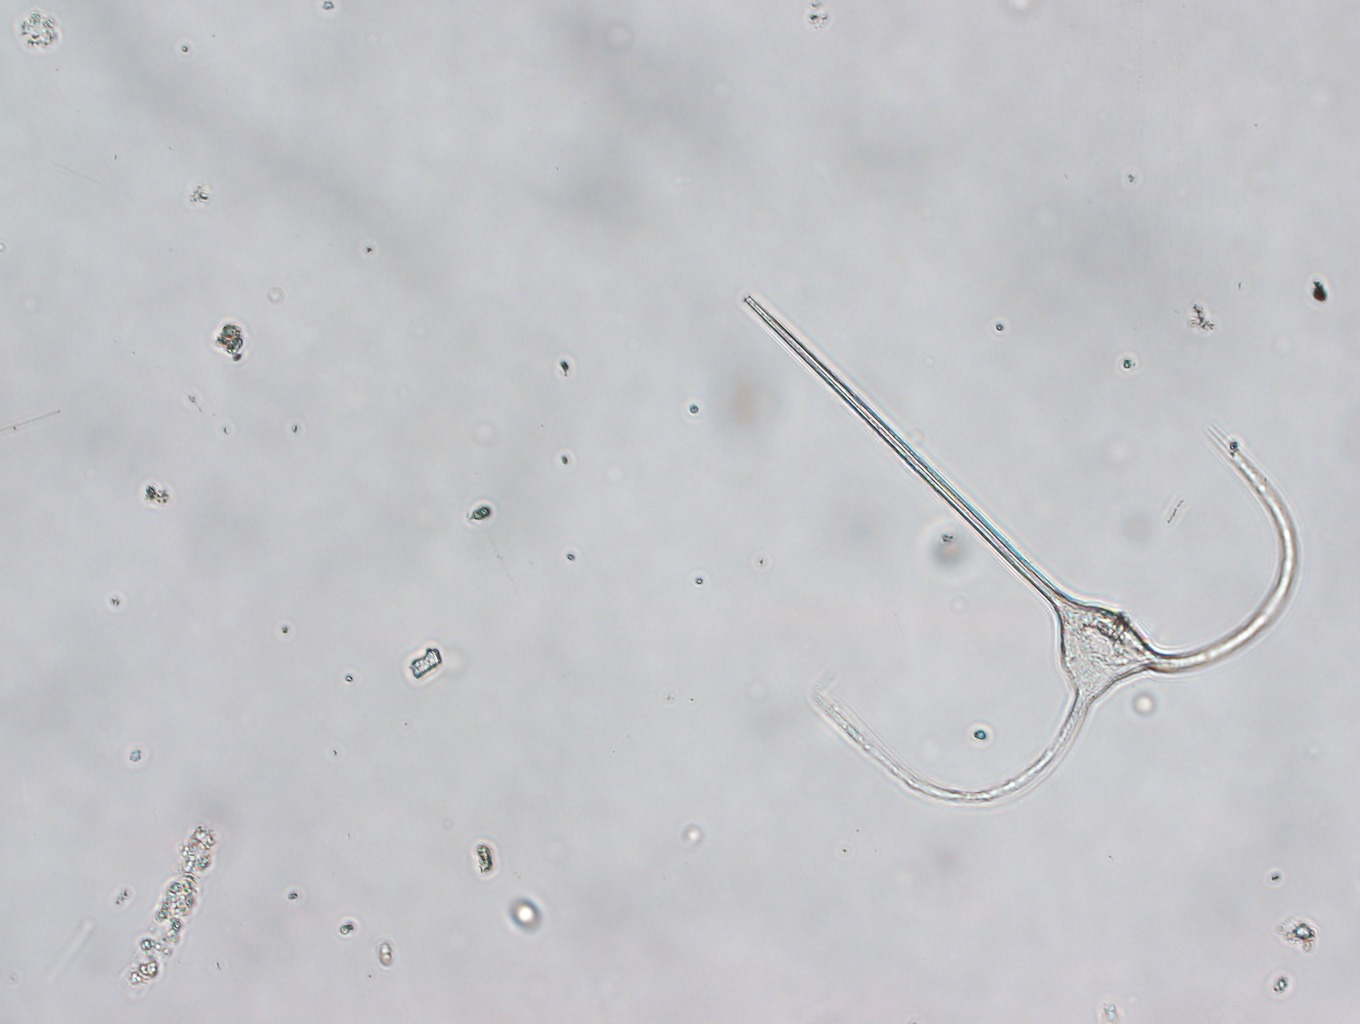ceratium trichoceros: (733, 282, 1307, 808)
